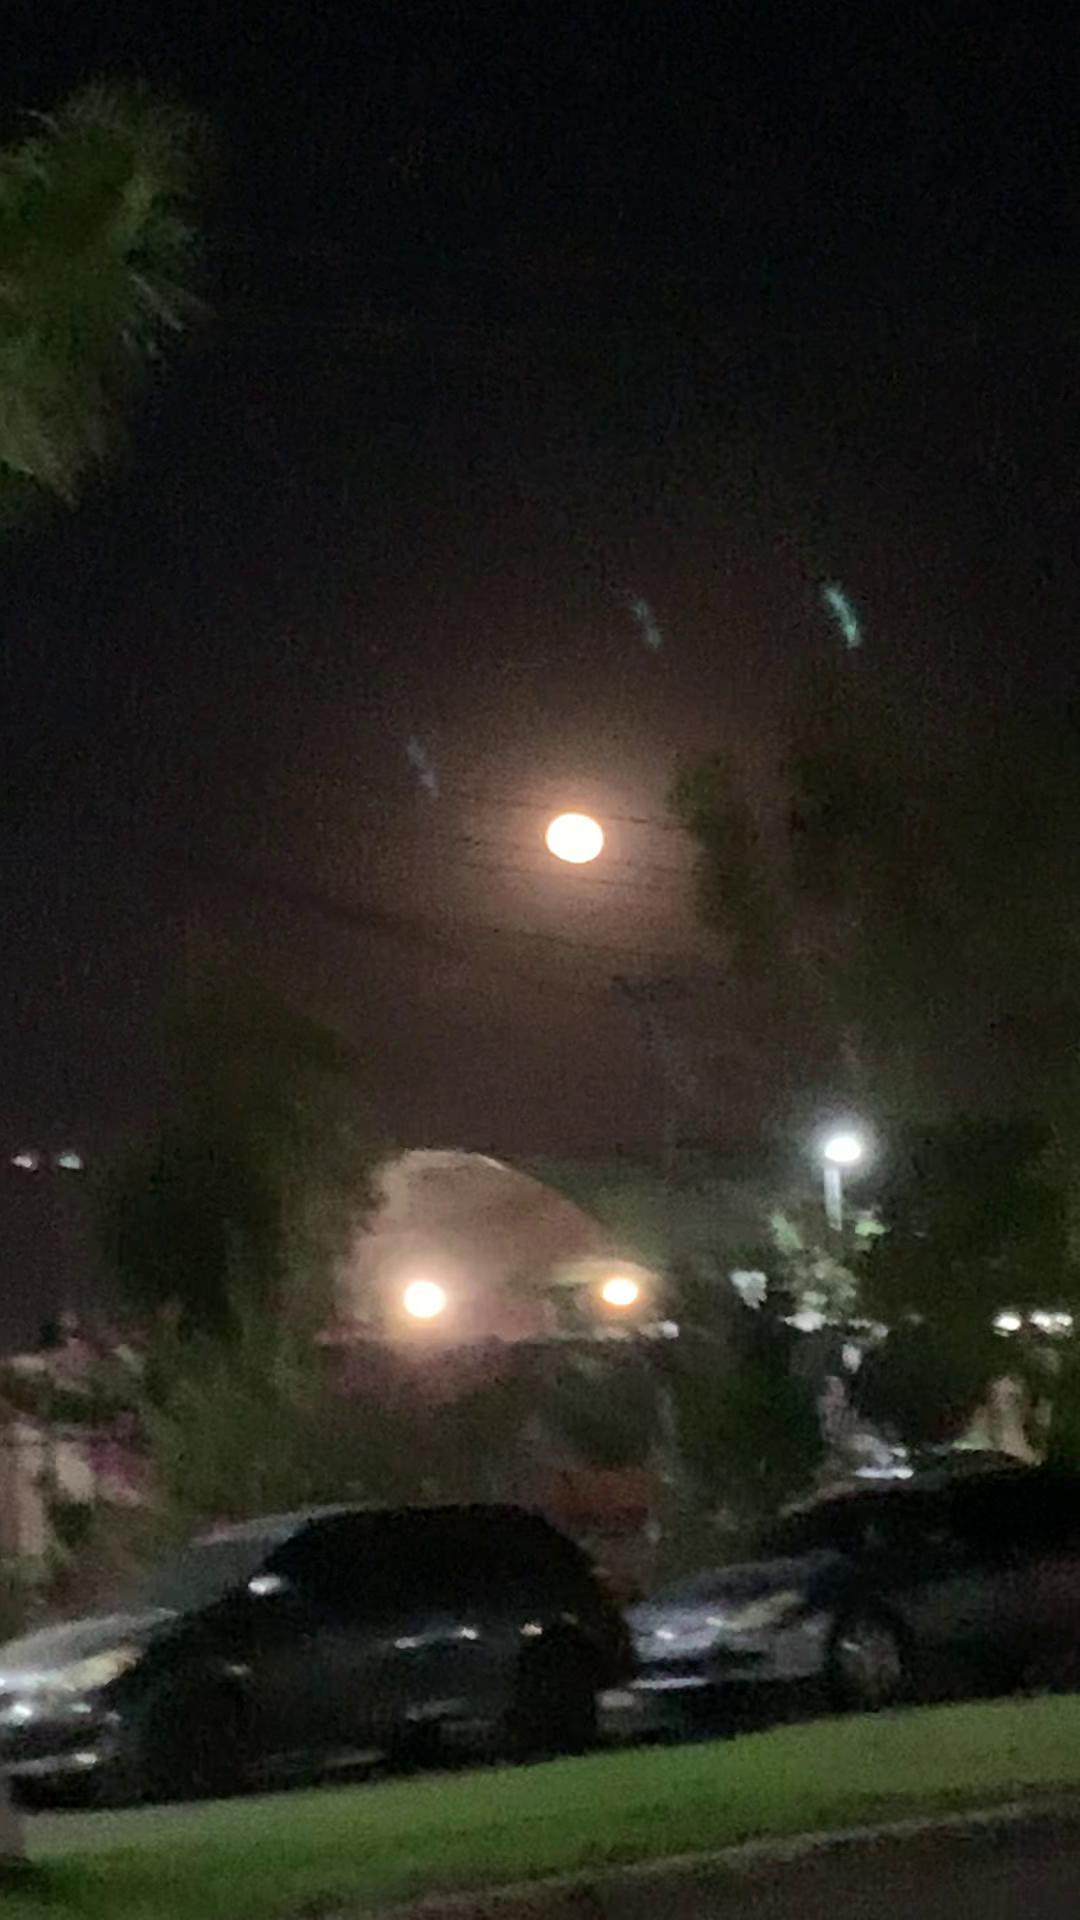moon: (540, 778, 632, 876)
